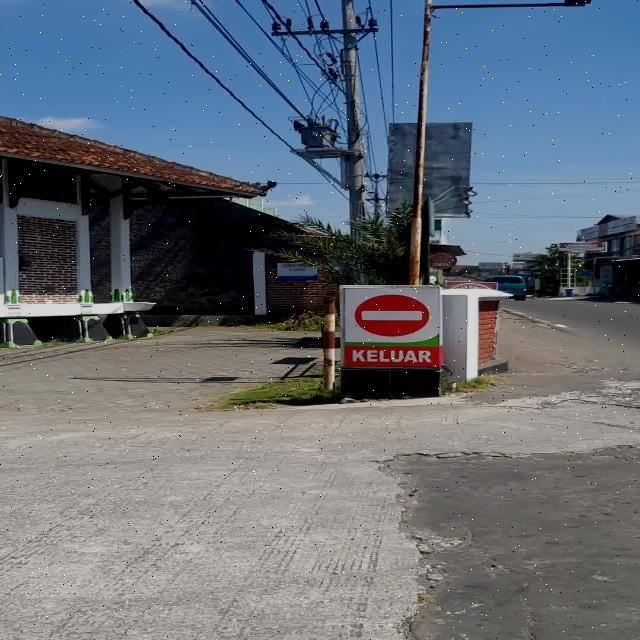Dilarang Masuk: (354, 294, 430, 337)
